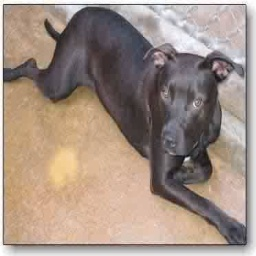dog: (21, 12, 244, 242)
